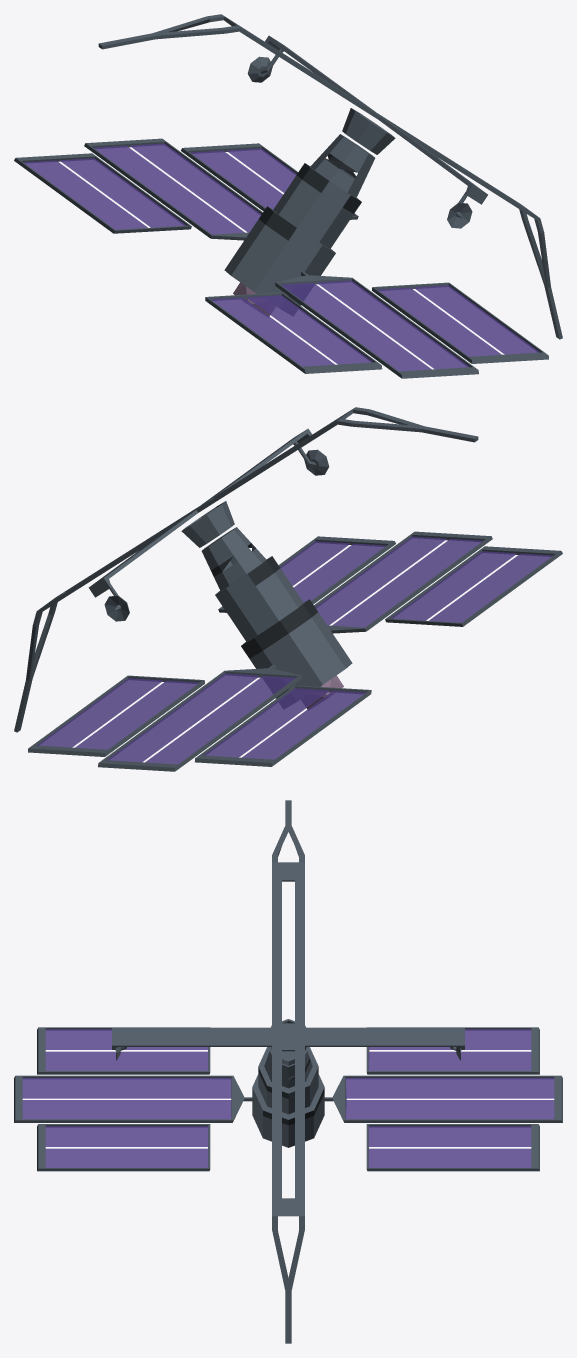
File: Sat-RU-Pion-NKS.glb
3 renders of one model, top to bottom at view 1: azimuth 30°, elevation 25°; view 2: azimuth 150°, elevation 25°; view 3: azimuth 270°, elevation 25°, orthographic. The views are drawn at different scales.
Size of the model in its own units: 80.99 by 68.06 by 96.79.
